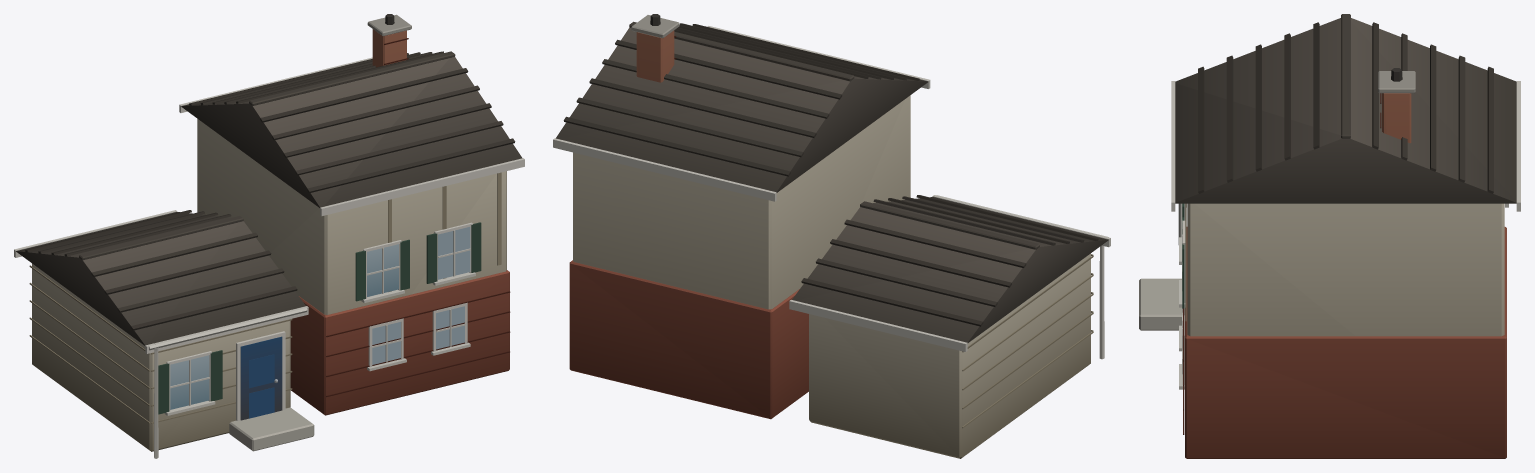
The model's file is split_level_house.glb.
3 views of the same model, side by side, from view 1: azimuth 30°, elevation 25°; view 2: azimuth 150°, elevation 25°; view 3: azimuth 270°, elevation 25° (orthographic). The views are drawn at different scales.
Visible parts, largest first — view 1: split_level_house; view 2: split_level_house; view 3: split_level_house.
Part boxes in pixels (x1=…): split_level_house: x1=14, y1=14, x2=524, y2=458; split_level_house: x1=553, y1=14, x2=1110, y2=458; split_level_house: x1=1139, y1=14, x2=1520, y2=458.
Bounding box in the file's own units: 9.06 × 6.94 × 6.5.
